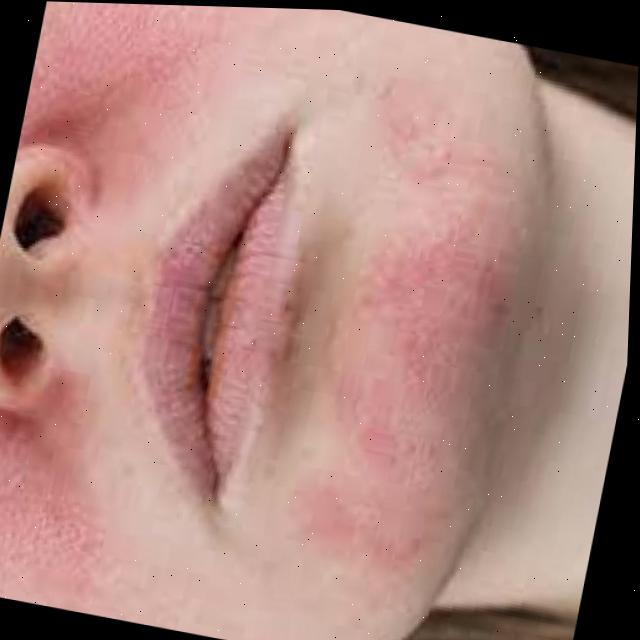Rosacea: (288, 117, 511, 574), (24, 1, 209, 140), (0, 431, 71, 580)
